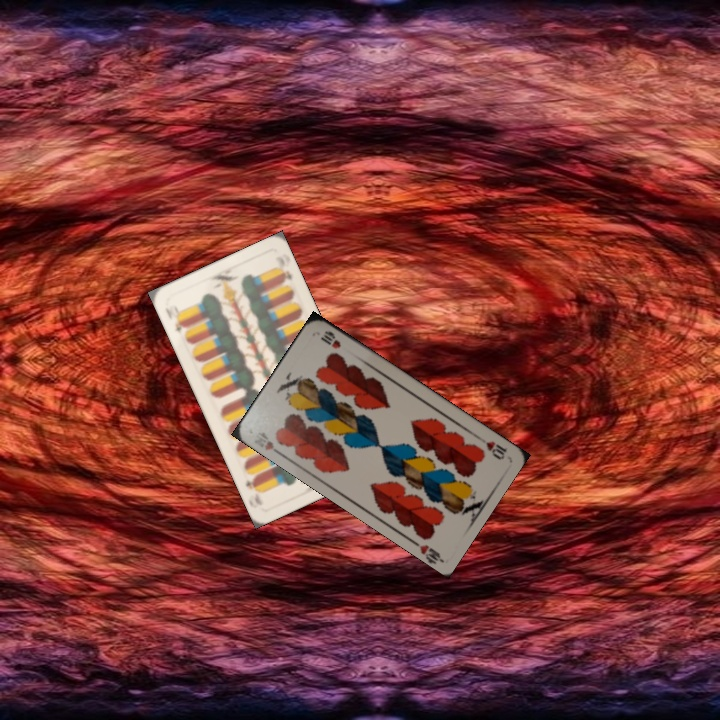E10: (169, 311, 189, 336)
H10: (473, 432, 509, 462), (260, 437, 285, 458)
